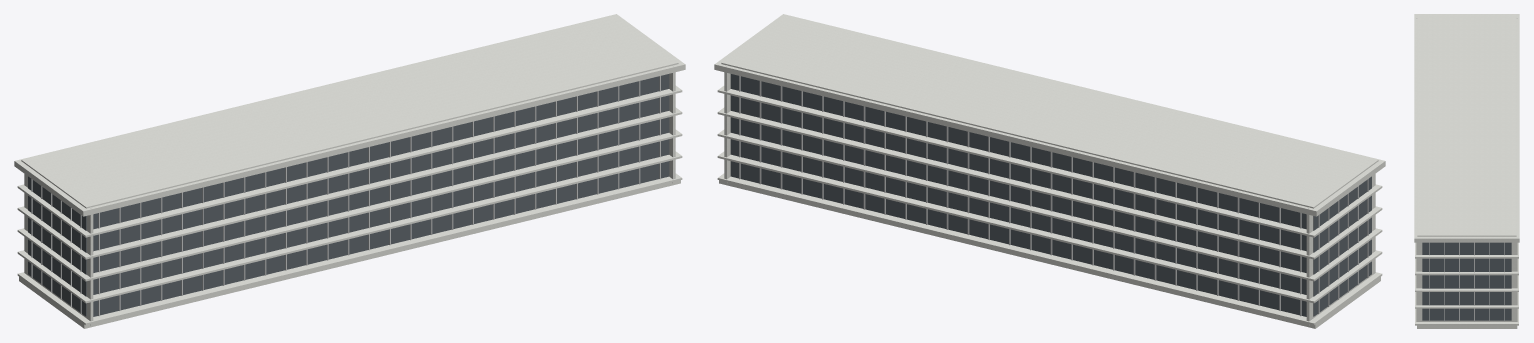
File: bldg_academic_block.glb
3 views of the same model, side by side, from view 1: azimuth 30°, elevation 25°; view 2: azimuth 150°, elevation 25°; view 3: azimuth 270°, elevation 25° (orthographic). The views are drawn at different scales.
Parts seen in each view (by area): view 1: bldg_academic_block.roof_fascia, bldg_academic_block.glazing_bands, bldg_academic_block.floor_slabs, bldg_academic_block.mullions, bldg_academic_block.end_glazing, bldg_academic_block.plinth, bldg_academic_block.end_walls, bldg_academic_block.end_frames; view 2: bldg_academic_block.roof_fascia, bldg_academic_block.glazing_bands, bldg_academic_block.floor_slabs, bldg_academic_block.mullions, bldg_academic_block.end_glazing, bldg_academic_block.plinth, bldg_academic_block.end_walls, bldg_academic_block.end_frames; view 3: bldg_academic_block.roof_fascia, bldg_academic_block.end_glazing, bldg_academic_block.floor_slabs, bldg_academic_block.end_walls, bldg_academic_block.end_frames, bldg_academic_block.plinth.
Boxes of the visible parts, bbox=[...] form: bldg_academic_block.roof_fascia: bbox=[14, 14, 685, 216]; bldg_academic_block.glazing_bands: bbox=[93, 74, 669, 316]; bldg_academic_block.floor_slabs: bbox=[17, 85, 682, 325]; bldg_academic_block.mullions: bbox=[98, 76, 660, 316]; bldg_academic_block.end_glazing: bbox=[28, 176, 86, 316]; bldg_academic_block.plinth: bbox=[19, 180, 680, 328]; bldg_academic_block.end_walls: bbox=[24, 65, 675, 325]; bldg_academic_block.end_frames: bbox=[31, 179, 81, 314]; bldg_academic_block.roof_fascia: bbox=[714, 14, 1385, 216]; bldg_academic_block.glazing_bands: bbox=[730, 74, 1306, 316]; bldg_academic_block.floor_slabs: bbox=[717, 86, 1382, 325]; bldg_academic_block.mullions: bbox=[739, 76, 1301, 316]; bldg_academic_block.end_glazing: bbox=[1313, 176, 1371, 316]; bldg_academic_block.plinth: bbox=[719, 180, 1380, 328]; bldg_academic_block.end_walls: bbox=[724, 65, 1375, 325]; bldg_academic_block.end_frames: bbox=[1318, 179, 1368, 313]; bldg_academic_block.roof_fascia: bbox=[1414, 14, 1519, 242]; bldg_academic_block.end_glazing: bbox=[1422, 242, 1511, 320]; bldg_academic_block.floor_slabs: bbox=[1415, 242, 1518, 325]; bldg_academic_block.end_walls: bbox=[1416, 17, 1517, 321]; bldg_academic_block.end_frames: bbox=[1429, 242, 1504, 321]; bldg_academic_block.plinth: bbox=[1417, 324, 1517, 328].
Size of the model in its own units: 84.8 by 16.26 by 16.8.
3 materials, 1 textured.
